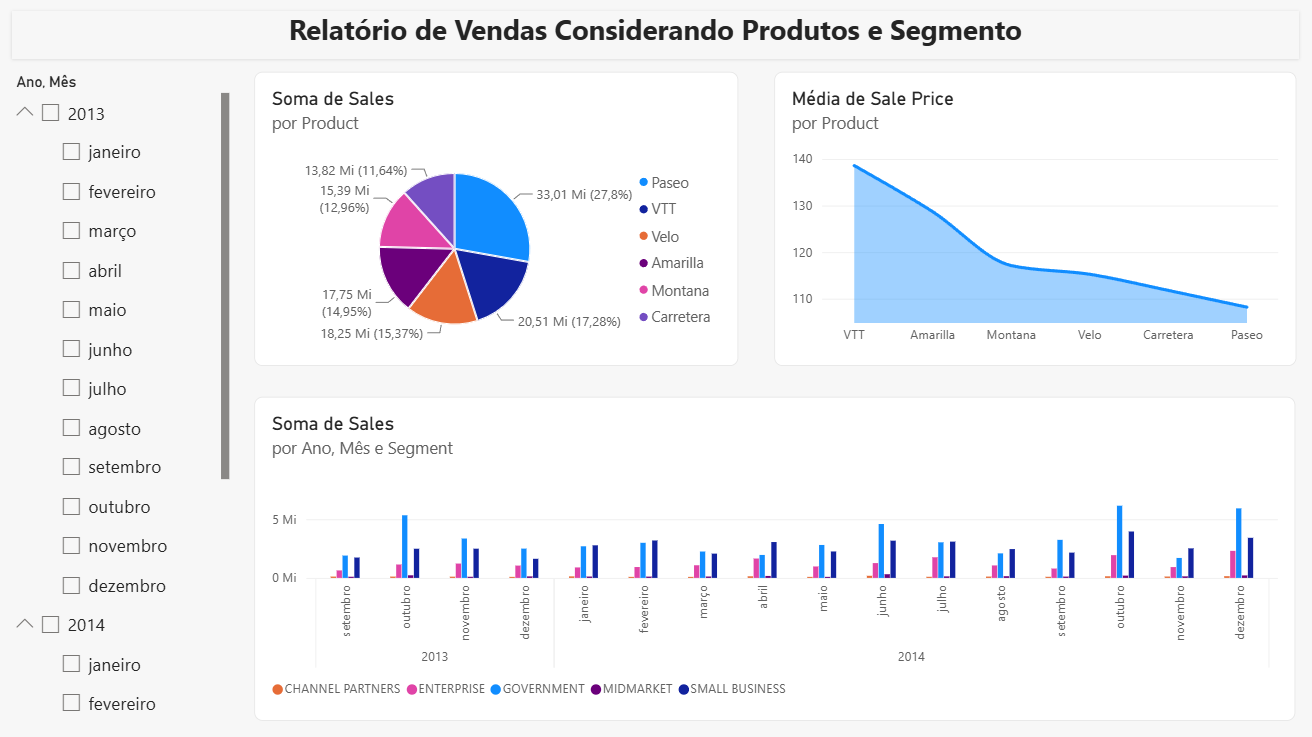

The page's visual inventory and layout, read from the dashboard file:
{"tool":"powerbi","page":{"name":"Página 1","canvas":[1280,720],"ordinal":0},"visuals":[{"type":"pieChart","fields":{"Category":["financials.Product"],"Y":["Sum(financials.Sales)"]},"box":[251.9,75.8,467.1,283.7],"z":0},{"type":"areaChart","fields":{"Category":["financials.Product"],"Y":["Avg(financials.Sale Price)"]},"box":[754.5,75.8,503.8,283.7],"z":1000},{"type":"clusteredColumnChart","fields":{"Y":["Sum(financials.Sales)"],"Series":["financials.Segment"],"Category":["financials.Date.Variation.Hierarquia de datas.Ano","financials.Date.Variation.Hierarquia de datas.Mês"]},"box":[251.9,390.1,1005.2,313],"z":2000},{"type":"slicer","fields":{"Values":["financials.Date.Variation.Hierarquia de datas.Ano","financials.Date.Variation.Hierarquia de datas.Mês"]},"box":[14.7,77,214,626.1],"z":3000},{"type":"textbox","box":[18.3,17.1,1242.4,46.5],"z":4000}]}

Visuals, with their boxes on the page's 1280x720 design canvas (x1, y1, x2, y2). These are canvas units, not pixel positions in the 1312x737 screenshot, which may show the page scaled, cropped or inside an application window:
pieChart - financials.Product x Sum(financials.Sales): [252,76,719,360]
areaChart - financials.Product x Avg(financials.Sale Price): [754,76,1258,360]
clusteredColumnChart - Sum(financials.Sales) x financials.Segment: [252,390,1257,703]
slicer - financials.Date.Variation.Hierarquia de datas.Ano x financials.Date.Variation.Hierarquia de datas.Mês: [15,77,229,703]
textbox: [18,17,1261,64]
